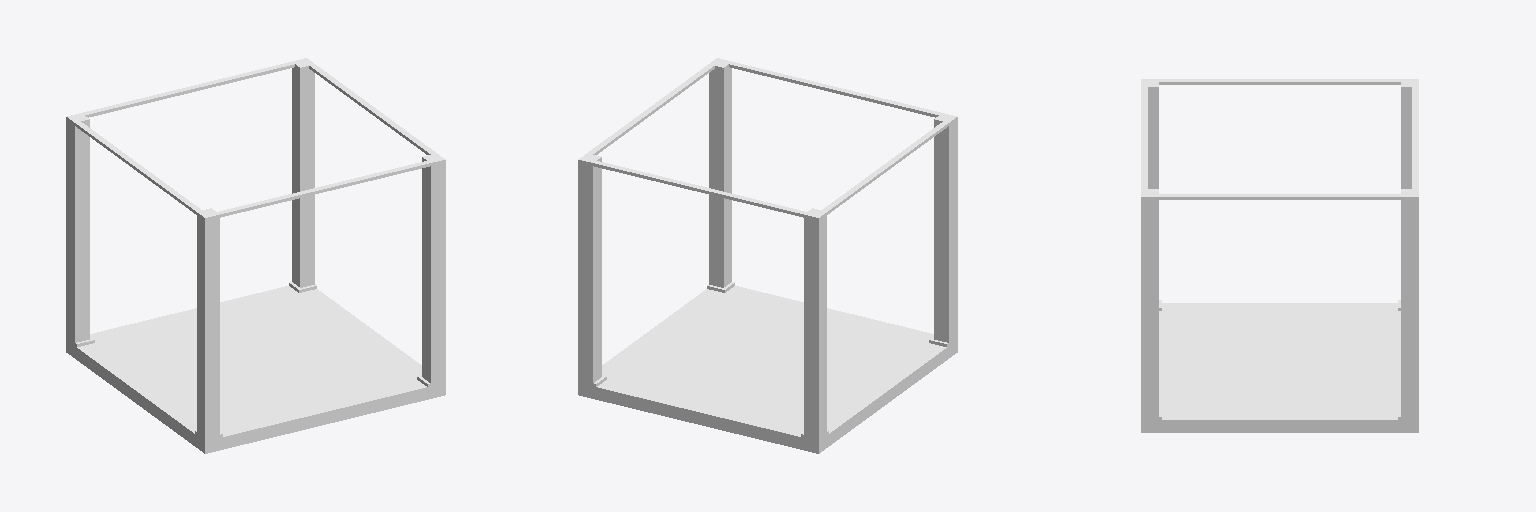
The model's file is Imprimante-1-Socle.obj.
3 renders of one model, left to right at view 1: azimuth 30°, elevation 25°; view 2: azimuth 150°, elevation 25°; view 3: azimuth 270°, elevation 25°, orthographic.
Visible parts, largest first — view 1: Socle; view 2: Socle; view 3: Socle.
Boxes of the visible parts, x1,y1,x2,y2 form: Socle: [66, 58, 445, 453]; Socle: [578, 58, 957, 453]; Socle: [1141, 79, 1418, 432].
Size of the model in its own units: 8 by 7.5 by 8.